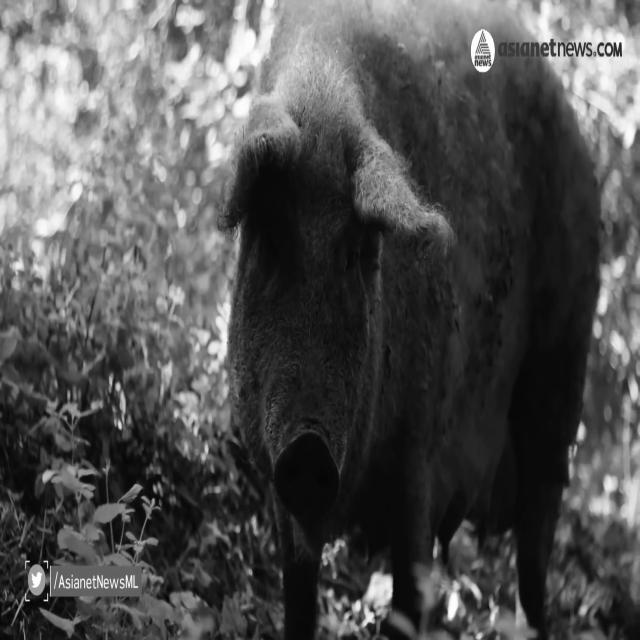WILD BOAR: (208, 79, 593, 577)
